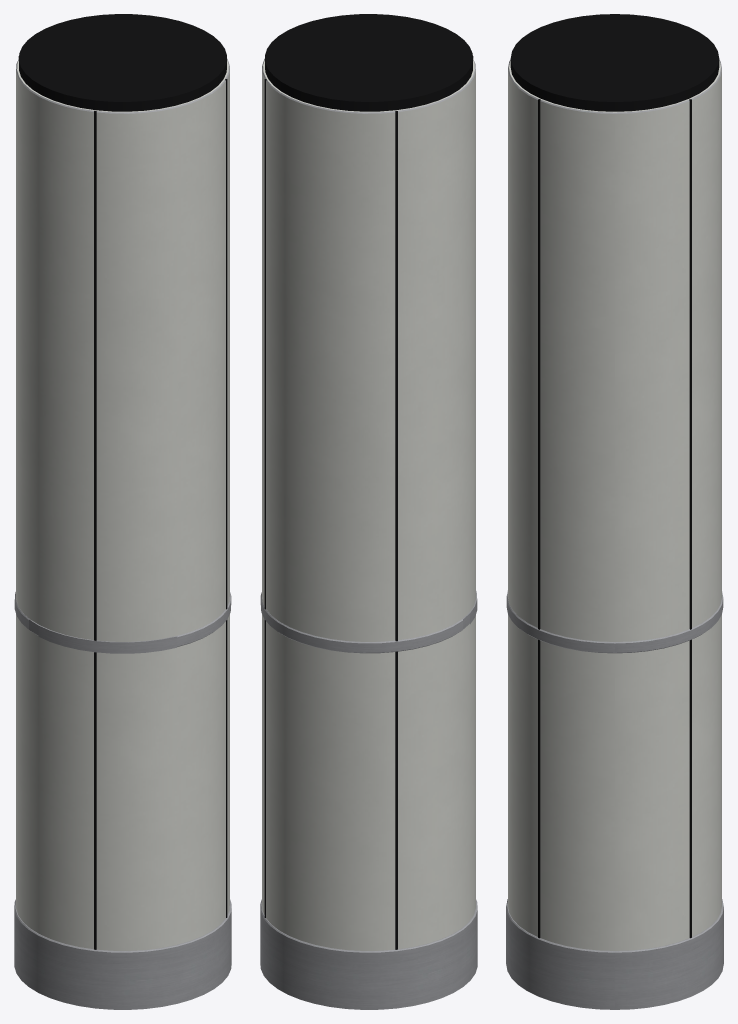
Rendered from gteki_column_round_d600.glb.
The picture shows the model from 3 angles, left to right: view 1: azimuth 30°, elevation 25°; view 2: azimuth 150°, elevation 25°; view 3: azimuth 270°, elevation 25°; orthographic projection.
Visible parts, largest first — view 1: VIS_body, VIS_trim; view 2: VIS_body, VIS_trim; view 3: VIS_body, VIS_trim.
Part boxes in pixels (left/top/right/bottom): VIS_body: left=16, top=58, right=229, bottom=950; VIS_trim: left=14, top=14, right=231, bottom=1009; VIS_body: left=262, top=58, right=475, bottom=950; VIS_trim: left=260, top=14, right=477, bottom=1009; VIS_body: left=508, top=59, right=721, bottom=950; VIS_trim: left=506, top=14, right=723, bottom=1009.
Size of what is drawn, in the model's own units: 0.61 by 2.8 by 0.61.
Materials: 3 (2 with a texture image).
